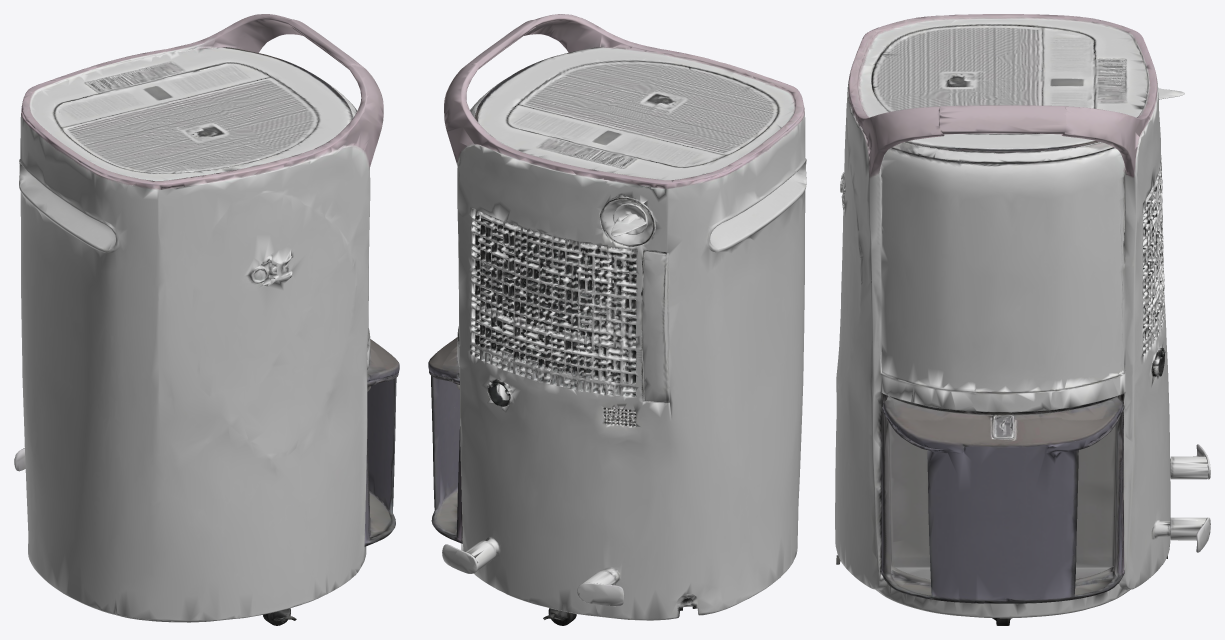
The model's file is purifier_lg.glb.
3 views of the same model, side by side, from view 1: azimuth 30°, elevation 25°; view 2: azimuth 150°, elevation 25°; view 3: azimuth 270°, elevation 25° (orthographic). The views are drawn at different scales.
Parts seen in each view (by area): view 1: tripo_node_c8e5b188-011e-4b6c-bfab-d9d30dceff5c; view 2: tripo_node_c8e5b188-011e-4b6c-bfab-d9d30dceff5c; view 3: tripo_node_c8e5b188-011e-4b6c-bfab-d9d30dceff5c.
Part boxes in pixels (<box>): tripo_node_c8e5b188-011e-4b6c-bfab-d9d30dceff5c: <box>14,14,399,625</box>; tripo_node_c8e5b188-011e-4b6c-bfab-d9d30dceff5c: <box>428,14,806,625</box>; tripo_node_c8e5b188-011e-4b6c-bfab-d9d30dceff5c: <box>835,14,1210,625</box>.
Bounding box in the file's own units: 0.386 × 0.596 × 0.386.
1 material, 1 textured.
